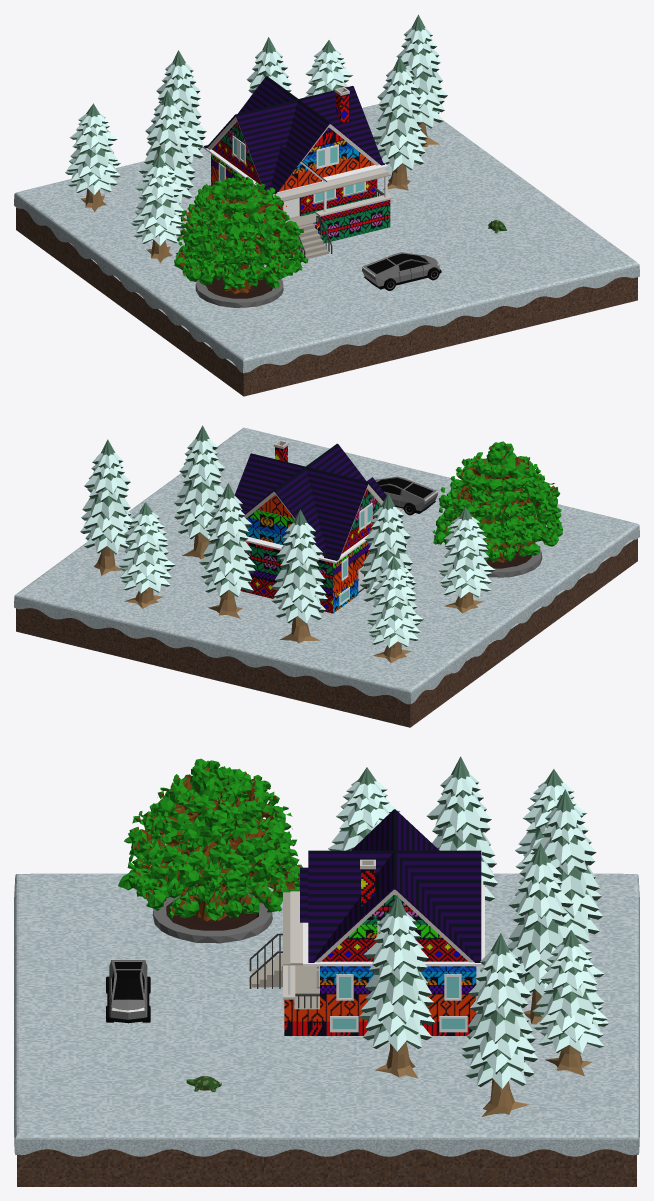
The picture shows the model from 3 angles, top to bottom: view 1: azimuth 30°, elevation 25°; view 2: azimuth 150°, elevation 25°; view 3: azimuth 270°, elevation 25°; orthographic projection. The views are drawn at different scales.
Visible parts, largest first — view 1: Cube.003, Cube.966, OBJRANDOM_CEIBA, VEHICLES_CYBERTRUCK; view 2: Cube.003, Cube.966, OBJRANDOM_CEIBA, VEHICLES_CYBERTRUCK; view 3: Cube.003, Cube.966, OBJRANDOM_CEIBA, VEHICLES_CYBERTRUCK.
Boxes of the visible parts, x1=… form: Cube.003: x1=14, y1=14, x2=639, y2=396; Cube.966: x1=202, y1=76, x2=393, y2=258; OBJRANDOM_CEIBA: x1=174, y1=173, x2=308, y2=307; VEHICLES_CYBERTRUCK: x1=362, y1=252, x2=441, y2=290; Cube.003: x1=14, y1=425, x2=639, y2=727; Cube.966: x1=235, y1=440, x2=405, y2=613; OBJRANDOM_CEIBA: x1=432, y1=441, x2=562, y2=577; VEHICLES_CYBERTRUCK: x1=375, y1=476, x2=437, y2=515; Cube.003: x1=14, y1=756, x2=639, y2=1186; Cube.966: x1=249, y1=809, x2=484, y2=1035; OBJRANDOM_CEIBA: x1=118, y1=758, x2=302, y2=943; VEHICLES_CYBERTRUCK: x1=106, y1=959, x2=150, y2=1023.
Bounding box in the file's own units: 4040 × 1715 × 4040.
37 materials, 8 textured.
